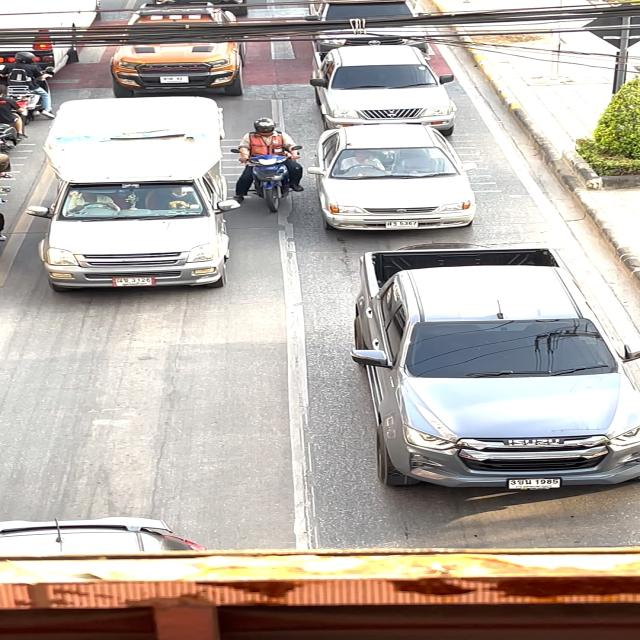car: (352, 246, 640, 501), (24, 102, 241, 305), (303, 122, 481, 242), (303, 53, 465, 132), (112, 6, 251, 92), (0, 511, 231, 552), (303, 1, 437, 50)
